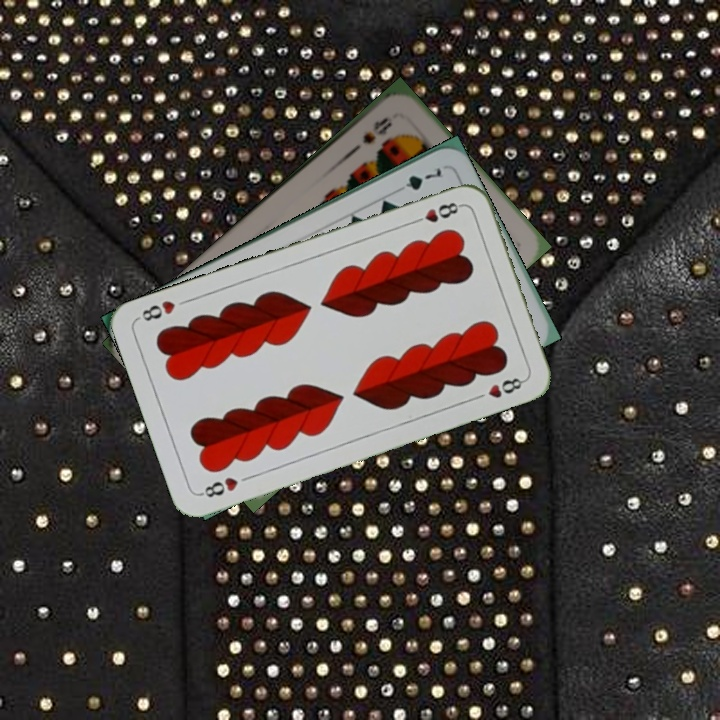G7: (390, 163, 446, 196)
H8: (408, 198, 465, 227), (196, 473, 241, 500)
S8: (358, 112, 395, 147)
